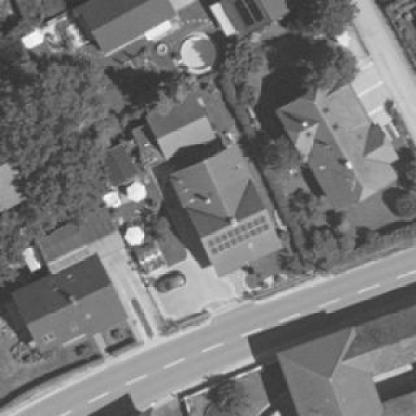solar-pv-panel: (207, 215, 270, 255), (233, 0, 263, 26)
